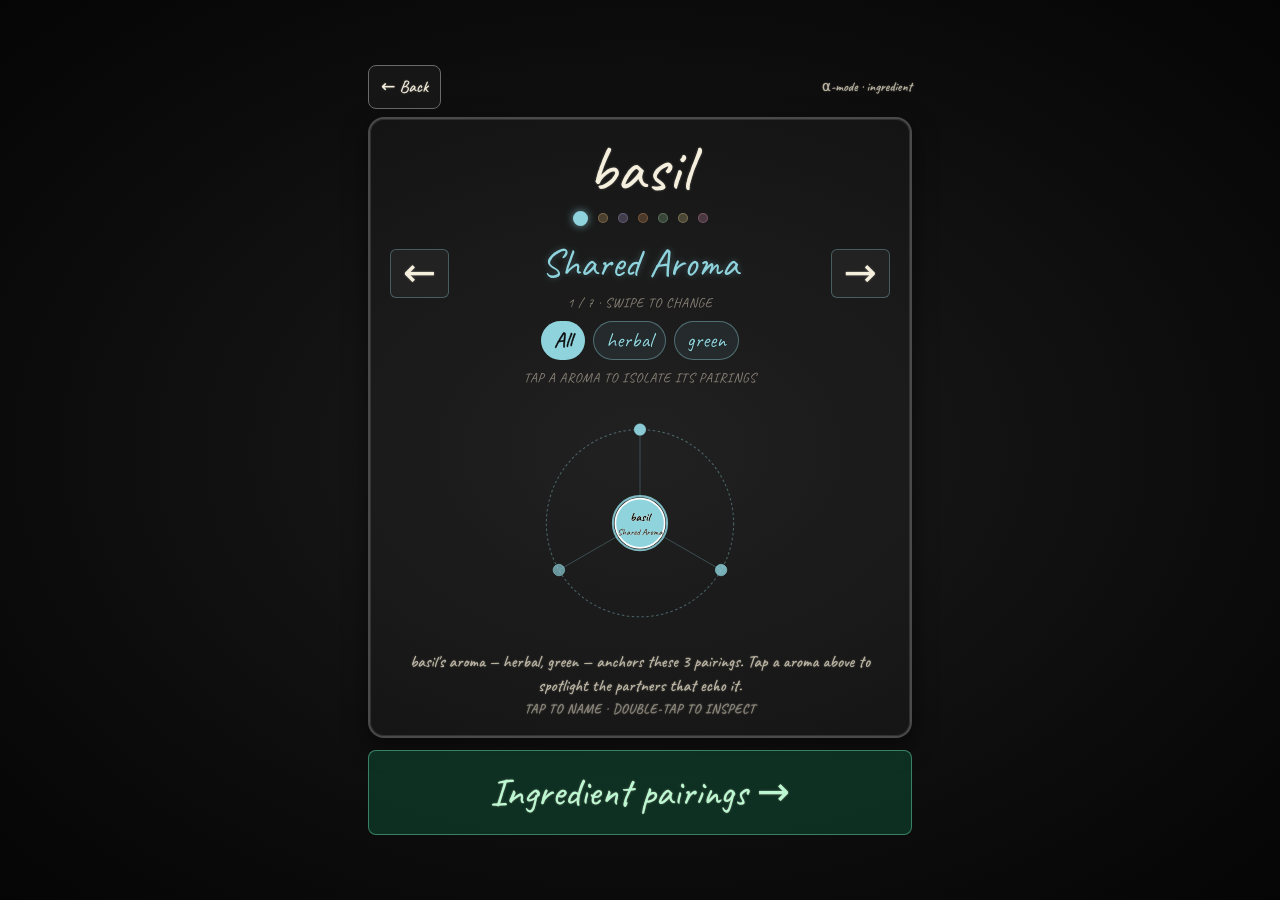
Test: AlphaModeDetailsCard — render › Chemistry lens shows indicative molecules only (no caffeine chip)
The image size is (1280, 900).
Click the button with test id "alpha-view-dot-chemistry".
click(682, 218)  # box [678,213,688,223]
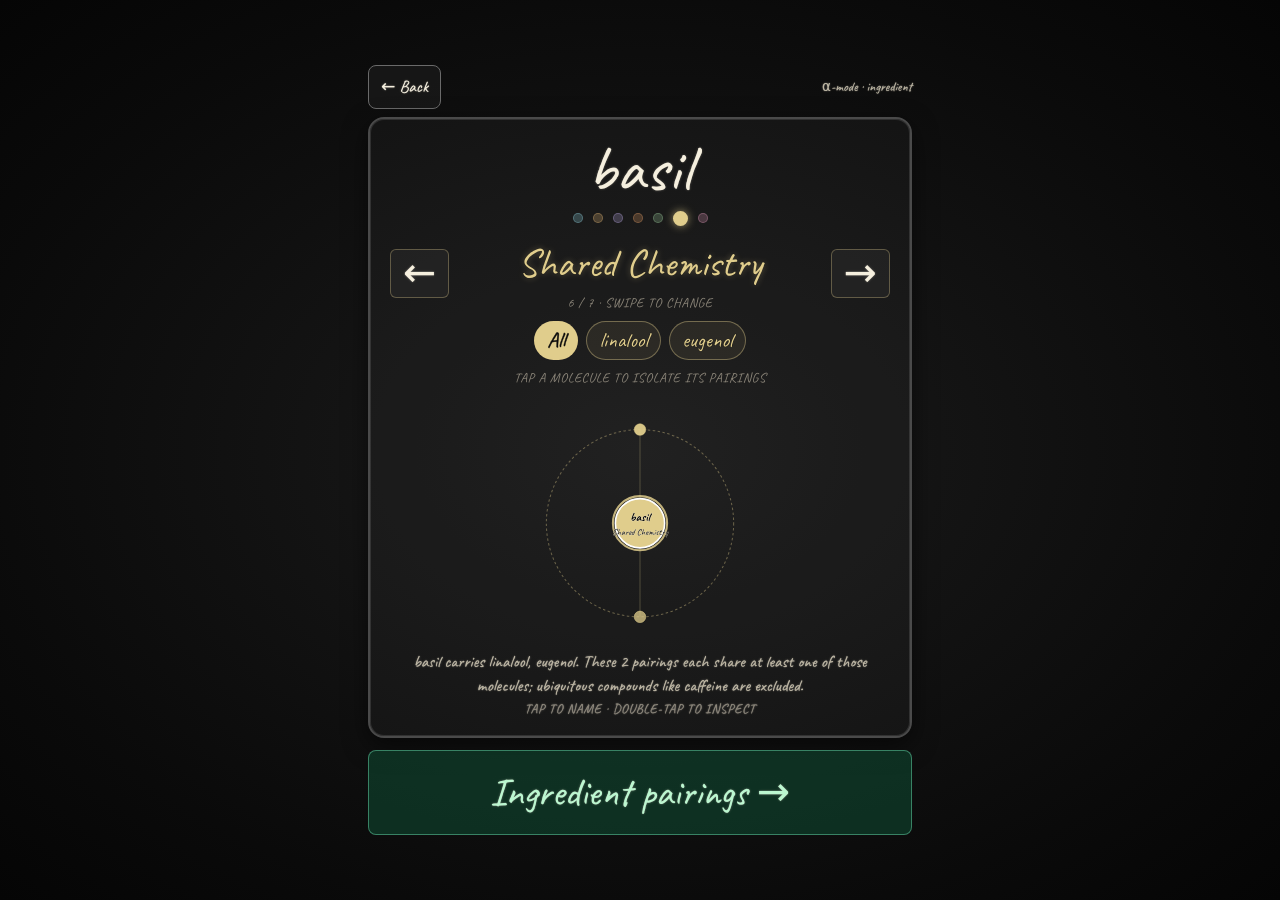
Check: the element with test id "alpha-affinity-node-lemon" is shown, box [634,424,646,523]
Check: the text with test id "alpha-lens-title" reads "Shared Chemistry", box [518,238,762,288]
Check: the button with test id "alpha-focal-tag-linalool" is shown, box [586,321,661,360]
